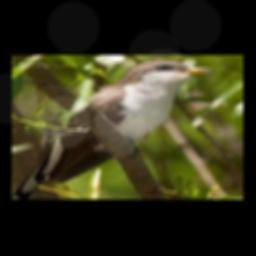Cuckoo: (13, 59, 215, 198)
